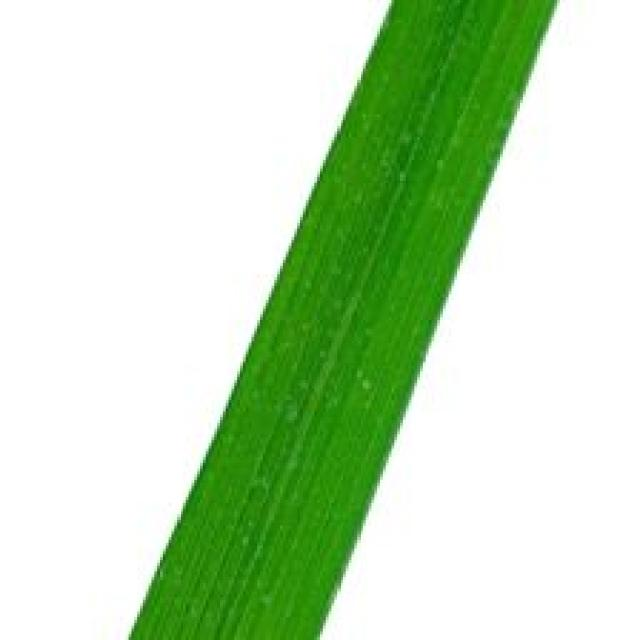Rice___Healthy_Rice_Plant: (129, 0, 558, 637)
